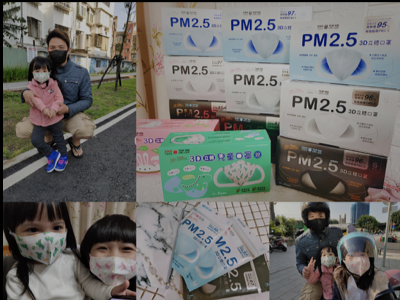with_mask: (14, 219, 68, 265), (87, 241, 137, 287), (343, 253, 372, 277), (48, 43, 68, 65), (307, 212, 328, 232), (32, 68, 50, 84), (320, 251, 336, 268)
